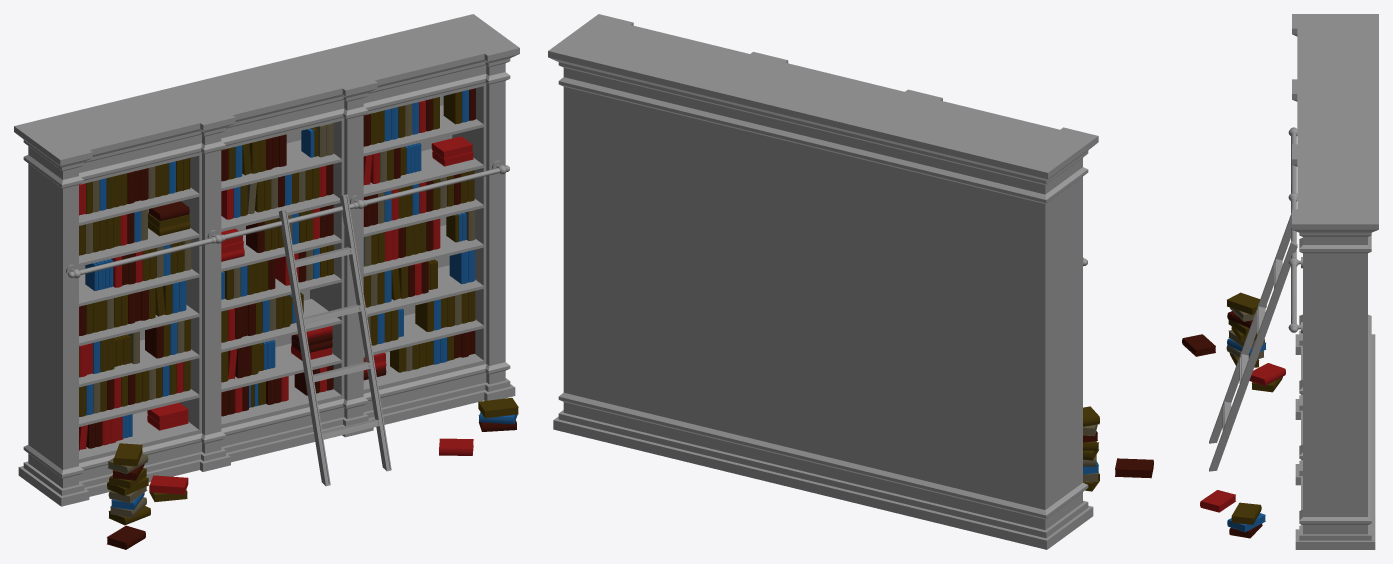
The model's file is SM_bookcase_04.FBX.
3 views of the same model, side by side, from view 1: azimuth 30°, elevation 25°; view 2: azimuth 150°, elevation 25°; view 3: azimuth 270°, elevation 25° (orthographic). The views are drawn at different scales.
Parts seen in each view (by area): view 1: bookcase_04; view 2: bookcase_04; view 3: bookcase_04.
Boxes of the visible parts, x1,y1,x2,y2 form: bookcase_04: (14, 14, 519, 549); bookcase_04: (548, 14, 1153, 549); bookcase_04: (1182, 14, 1378, 549).
Bounding box in the file's own units: 274 × 198 × 108.
